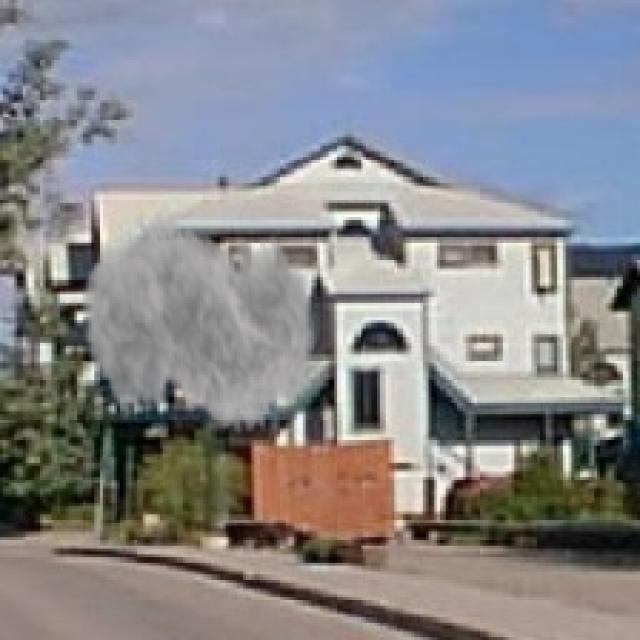smoke: (80, 188, 317, 463)
